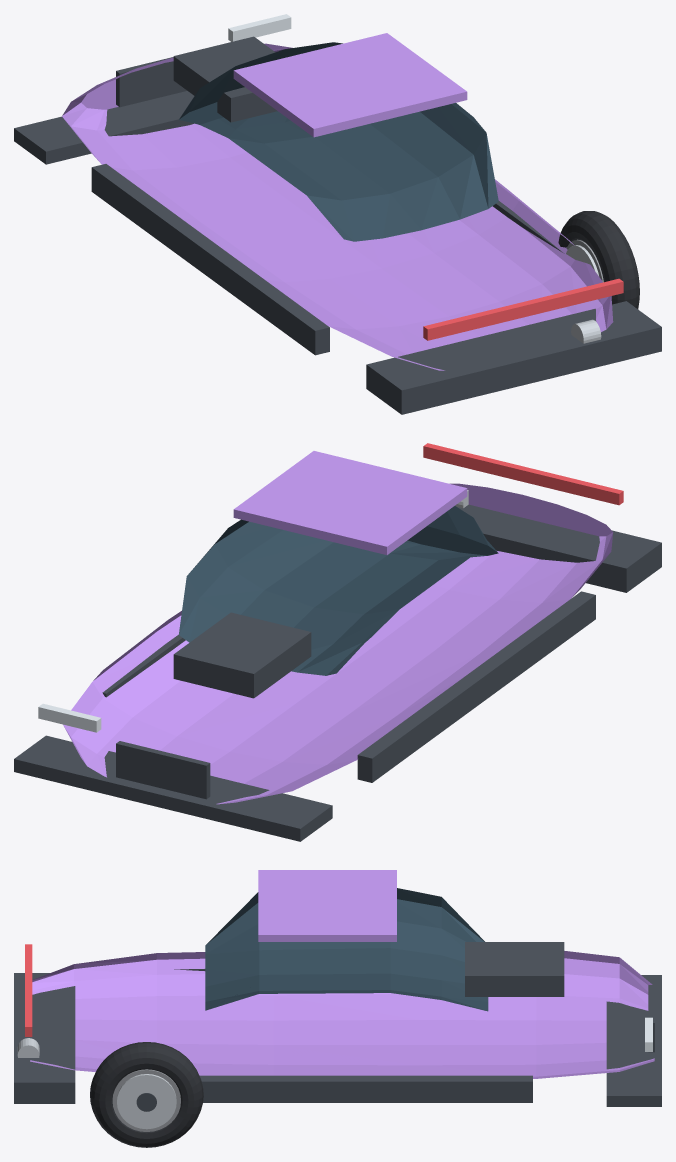
The model's file is muscle_v8.glb.
The picture shows the model from 3 angles, top to bottom: view 1: azimuth 30°, elevation 25°; view 2: azimuth 150°, elevation 25°; view 3: azimuth 270°, elevation 25°; orthographic projection. The views are drawn at different scales.
Parts seen in each view (by area): view 1: Sculpted_unibody, Panoramic_glass_canopy, Rear_diffuser, Painted_roof_panel, Left_side_skirt, Carbon_front_splitter, Muscle_hood_scoop, Performance_tyre, Full_width_rear_LED, Front_mesh_grille, Front_LED_headlight; view 2: Sculpted_unibody, Panoramic_glass_canopy, Painted_roof_panel, Carbon_front_splitter, Left_side_skirt, Muscle_hood_scoop, Rear_diffuser, Front_mesh_grille, Full_width_rear_LED, Front_LED_headlight, Right_side_skirt; view 3: Sculpted_unibody, Panoramic_glass_canopy, Painted_roof_panel, Right_side_skirt, Rear_diffuser, Performance_tyre, Muscle_hood_scoop, Carbon_front_splitter, Forged_alloy_hub, Ventilated_brake_disc, Full_width_rear_LED.
Boxes of the visible parts, x1,y1,x2,y2 form: Sculpted_unibody: (62,43,613,370); Panoramic_glass_canopy: (179,42,498,241); Rear_diffuser: (366,301,661,414); Painted_roof_panel: (233,33,467,137); Left_side_skirt: (91,164,329,355); Carbon_front_splitter: (14,91,194,164); Muscle_hood_scoop: (173,36,277,122); Performance_tyre: (558,211,639,309); Full_width_rear_LED: (423,278,623,340); Front_mesh_grille: (116,57,186,107); Front_LED_headlight: (228,14,291,41); Sculpted_unibody: (63,483,613,804); Panoramic_glass_canopy: (178,506,498,675); Painted_roof_panel: (233,451,467,554); Carbon_front_splitter: (14,735,332,841); Left_side_skirt: (357,591,595,782); Muscle_hood_scoop: (173,612,311,698); Rear_diffuser: (457,504,661,592); Front_mesh_grille: (116,741,210,799); Full_width_rear_LED: (423,443,623,505); Front_LED_headlight: (38,703,101,732); Right_side_skirt: (102,635,185,697); Sculpted_unibody: (30,951,654,1078); Panoramic_glass_canopy: (205,888,488,1011); Painted_roof_panel: (258,870,396,941); Right_side_skirt: (199,1075,532,1102); Rear_diffuser: (14,973,75,1103); Performance_tyre: (90,1042,203,1147); Muscle_hood_scoop: (465,942,564,996); Carbon_front_splitter: (606,975,661,1106); Forged_alloy_hub: (117,1074,176,1129); Ventilated_brake_disc: (112,1069,180,1131); Full_width_rear_LED: (25,944,32,1036).
Size of the model in its own units: 2.09 by 1.39 by 4.44.
